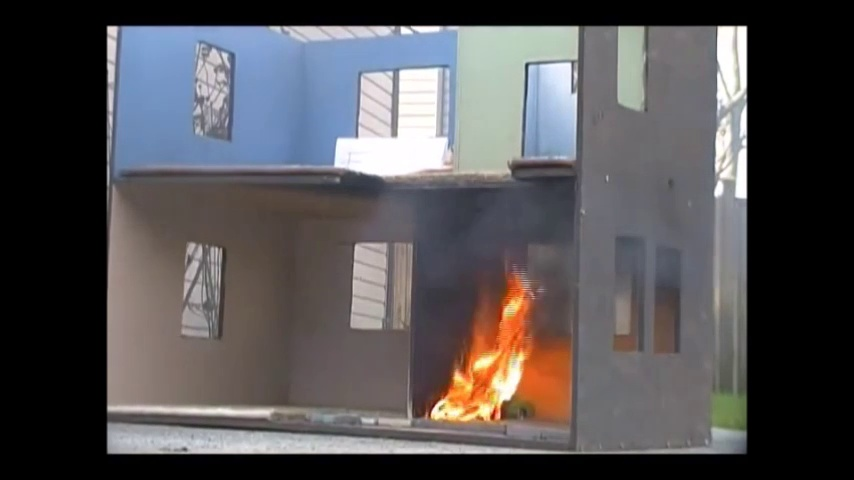fire: (436, 280, 532, 418)
